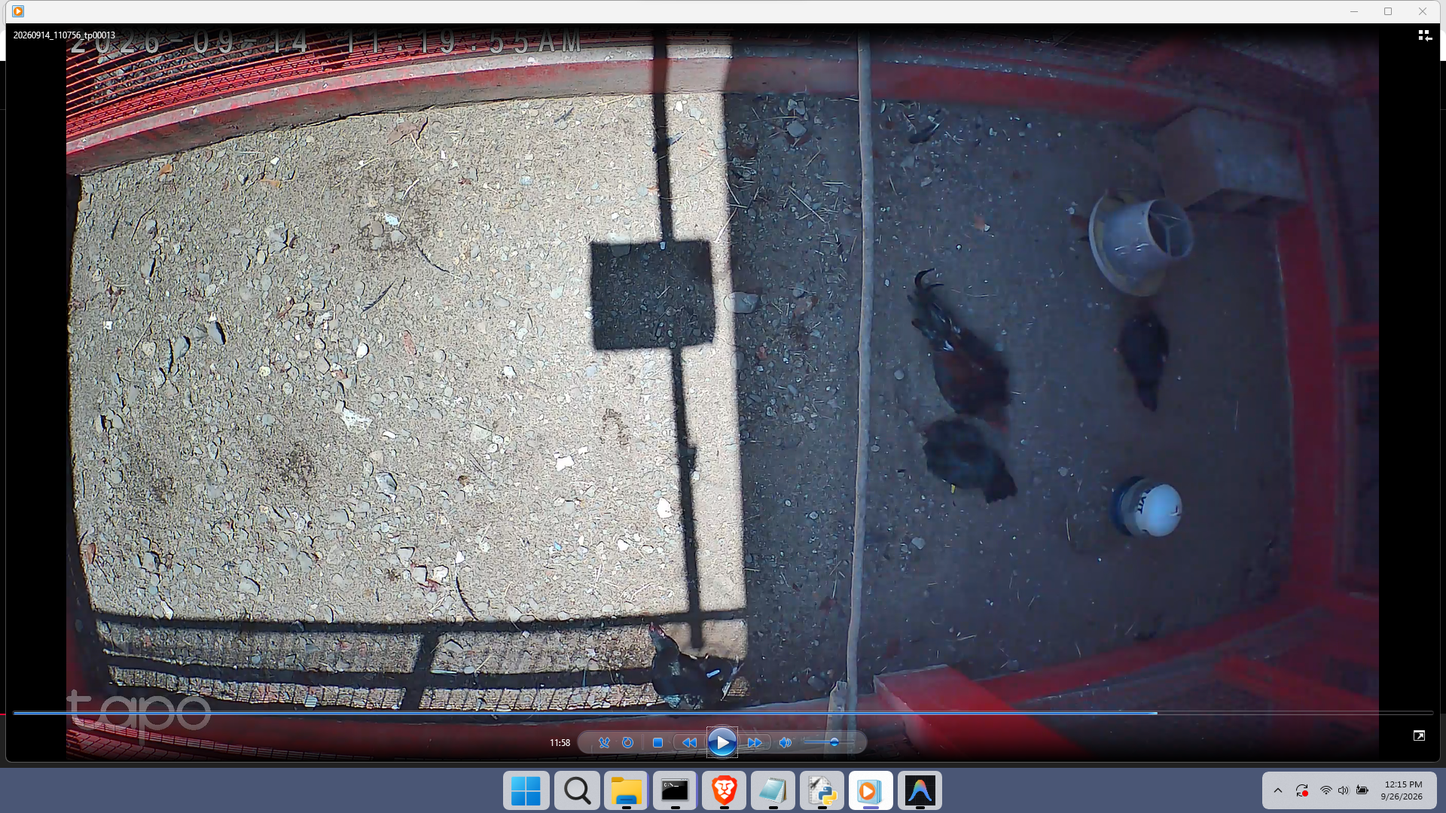Chicken: (920, 416, 1024, 508), (648, 618, 746, 711), (1108, 297, 1176, 418)
Drinker: (1112, 475, 1185, 542)
Feeder: (1088, 187, 1194, 302)
Leg_Band_Pink: (1113, 347, 1117, 352)
Leg_Band_White: (705, 666, 721, 679)
Leg_Band_Yellow: (950, 484, 956, 494)
Rooster: (908, 267, 1015, 438)
